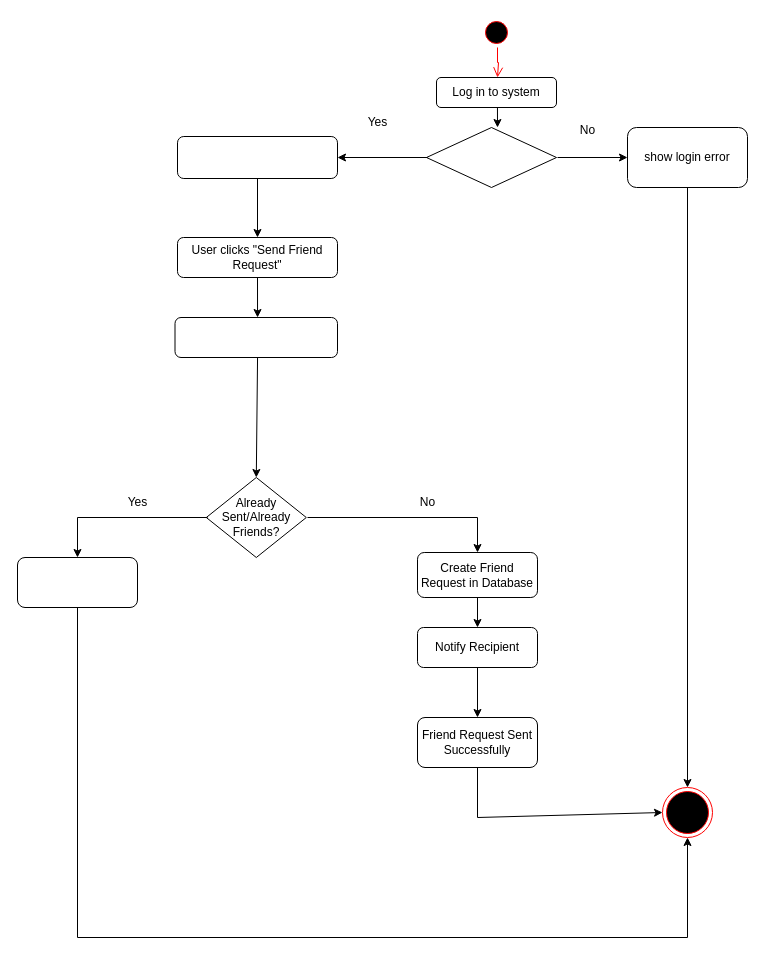
Image size: 765x963. Some labels were removed from this diagram. Each missing label, with the centre of its shape:
"Check if Friend Request Already Sent or Already Friends" goes at pixel 256 337.
"Display Friend’s Profile" goes at pixel 257 157.
"Is user logged in?" goes at pixel 491 157.
"Show Error Message (Cannot Send Request)" goes at pixel 77 582.
